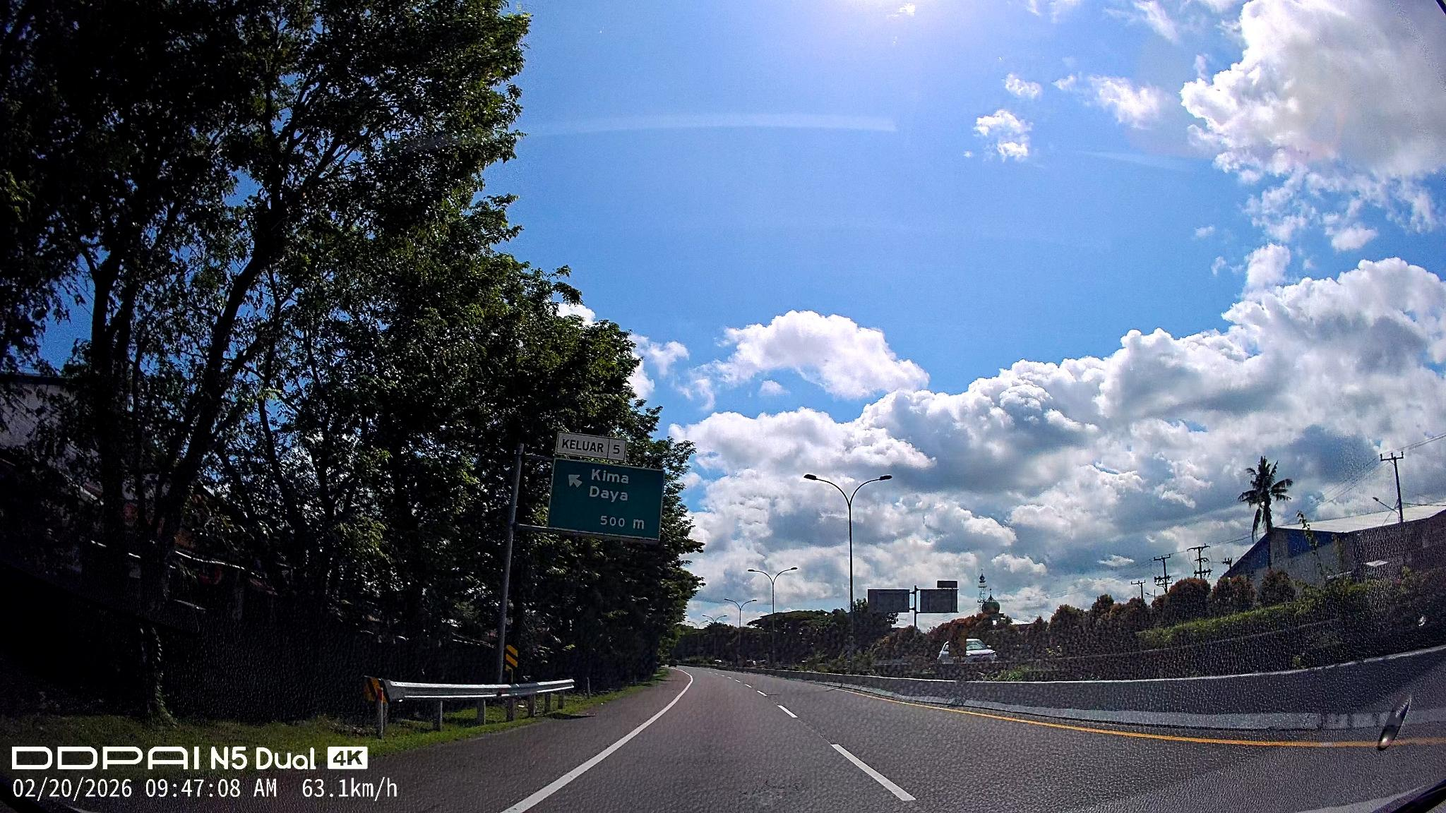rambu_teks: (550, 458, 665, 542)
